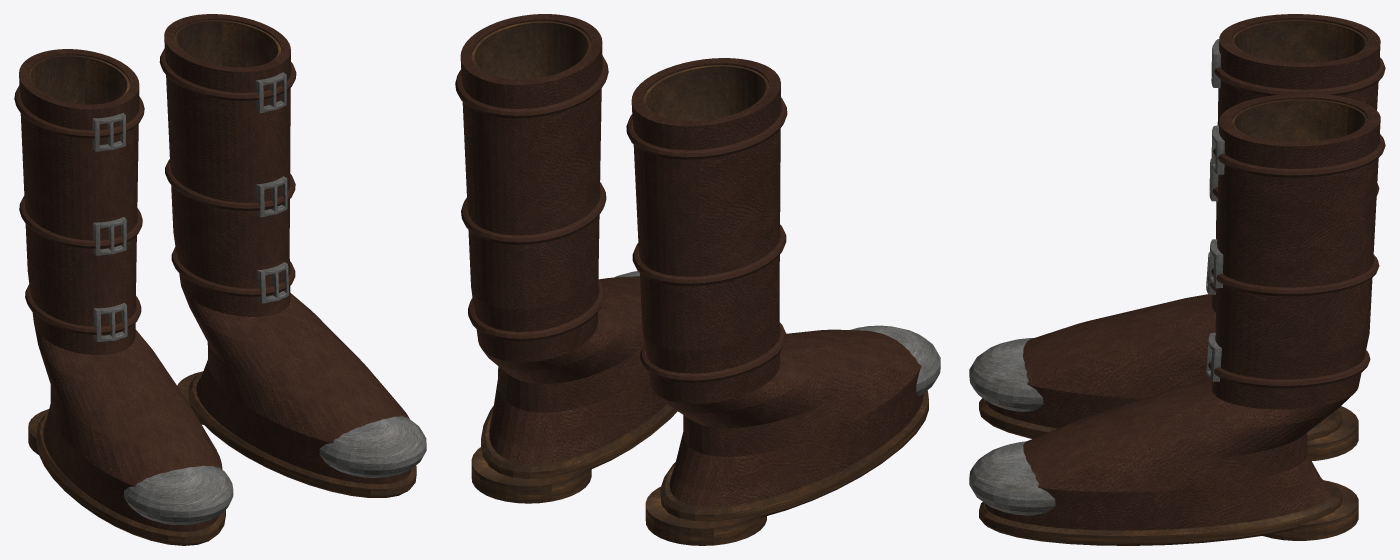
File: light.obj
The picture shows the model from 3 angles, left to right: view 1: azimuth 30°, elevation 25°; view 2: azimuth 150°, elevation 25°; view 3: azimuth 270°, elevation 25°; orthographic projection. The views are drawn at different scales.
Visible parts, largest first — view 1: right_upper, left_upper, left_toe_cap, right_toe_cap, left_lining, right_lining, right_sole, left_sole, right_band2, left_band2, right_band1, left_band1 (+2 smaller); view 2: left_upper, right_upper, right_lining, left_lining, left_sole, right_sole, right_heel, left_heel, left_band2, right_band2, left_band1, left_toe_cap (+3 smaller); view 3: right_upper, left_upper, right_sole, right_lining, left_lining, right_toe_cap, left_toe_cap, right_heel, right_band2, right_band1, left_sole, right_band0 (+2 smaller).
Part boxes in pixels (x1=…): right_upper: x1=164, y1=14, x2=411, y2=484; left_upper: x1=19, y1=49, x2=222, y2=531; left_toe_cap: x1=124, y1=465, x2=233, y2=525; right_toe_cap: x1=319, y1=416, x2=426, y2=477; left_lining: x1=28, y1=55, x2=129, y2=104; right_lining: x1=174, y1=20, x2=280, y2=67; right_sole: x1=188, y1=373, x2=416, y2=497; left_sole: x1=36, y1=413, x2=225, y2=545; right_band2: x1=159, y1=48, x2=296, y2=100; left_band2: x1=14, y1=85, x2=144, y2=138; right_band1: x1=165, y1=159, x2=295, y2=210; left_band1: x1=19, y1=196, x2=142, y2=248; left_upper: x1=631, y1=58, x2=923, y2=506; right_upper: x1=460, y1=14, x2=665, y2=463; right_lining: x1=471, y1=21, x2=591, y2=79; left_lining: x1=643, y1=65, x2=769, y2=120; left_sole: x1=660, y1=390, x2=928, y2=521; right_sole: x1=481, y1=404, x2=677, y2=478; right_heel: x1=471, y1=447, x2=591, y2=503; left_heel: x1=645, y1=486, x2=766, y2=545; left_band2: x1=626, y1=97, x2=787, y2=159; right_band2: x1=455, y1=55, x2=608, y2=118; left_band1: x1=632, y1=224, x2=786, y2=286; left_toe_cap: x1=850, y1=325, x2=940, y2=395; right_upper: x1=985, y1=93, x2=1380, y2=530; left_upper: x1=985, y1=14, x2=1380, y2=428; right_sole: x1=979, y1=480, x2=1342, y2=545; right_lining: x1=1231, y1=99, x2=1367, y2=142; left_lining: x1=1231, y1=19, x2=1367, y2=62; right_toe_cap: x1=969, y1=441, x2=1055, y2=515; left_toe_cap: x1=969, y1=338, x2=1043, y2=411; right_heel: x1=1263, y1=480, x2=1358, y2=540; right_band2: x1=1213, y1=134, x2=1385, y2=177; right_band1: x1=1211, y1=254, x2=1379, y2=296; left_sole: x1=979, y1=398, x2=1342, y2=441; right_band0: x1=1208, y1=350, x2=1370, y2=388.
Size of the model in its own units: 96.22 by 112 by 106.
3 materials, 3 textured.
